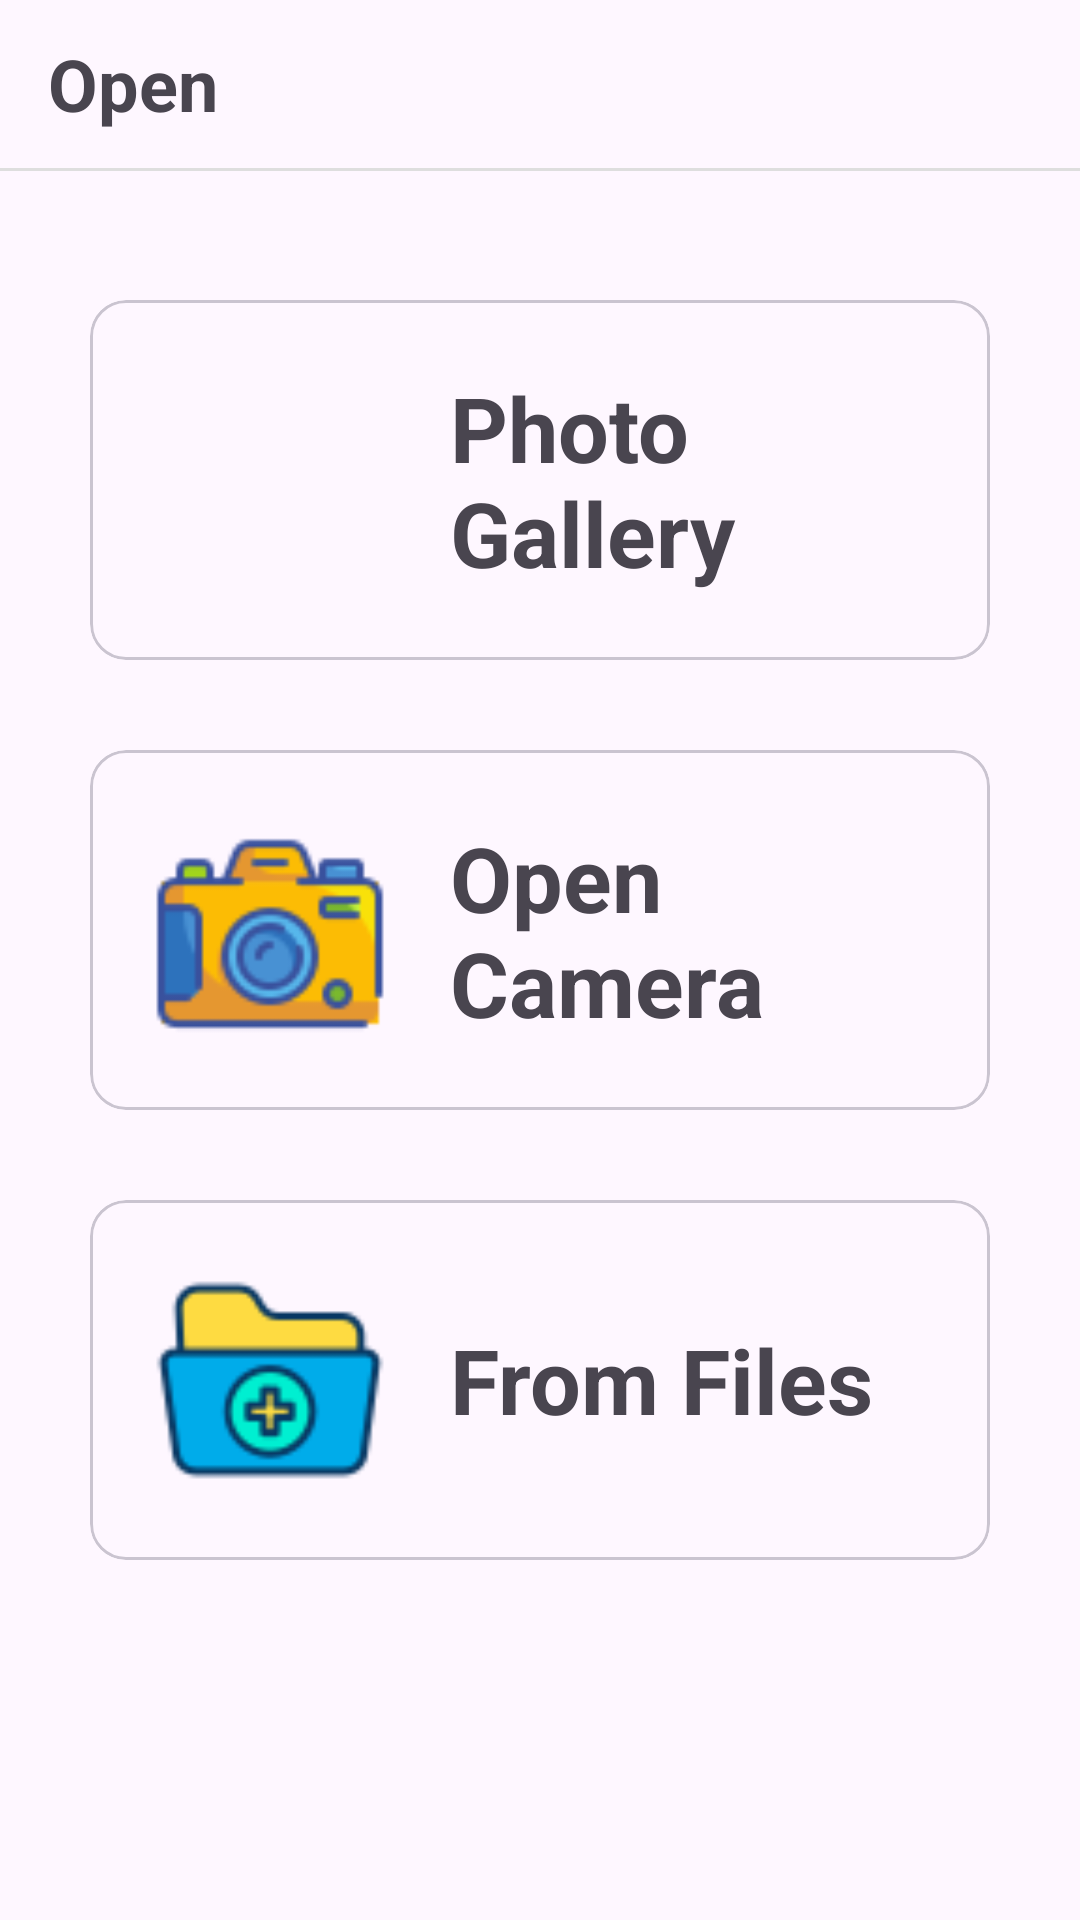

Screen size 1080*1920. Icon name, then its center in pixels as [x,y]:
open files: [270,1380]
